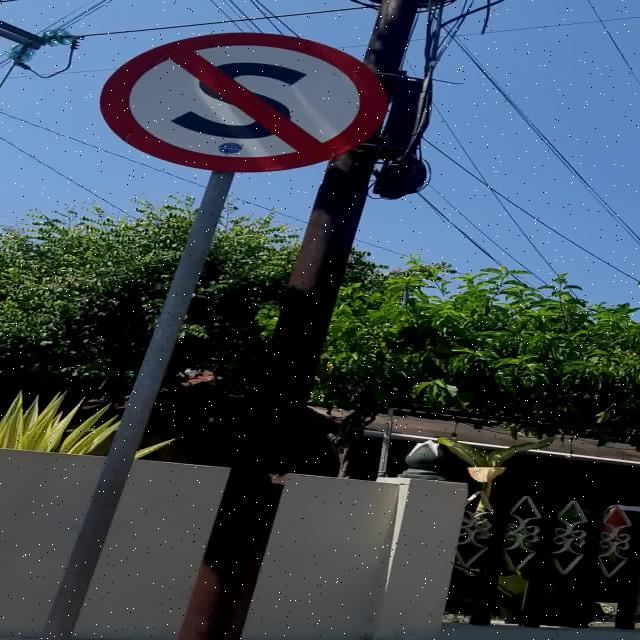Dilarang Berhenti: (98, 32, 386, 172)
